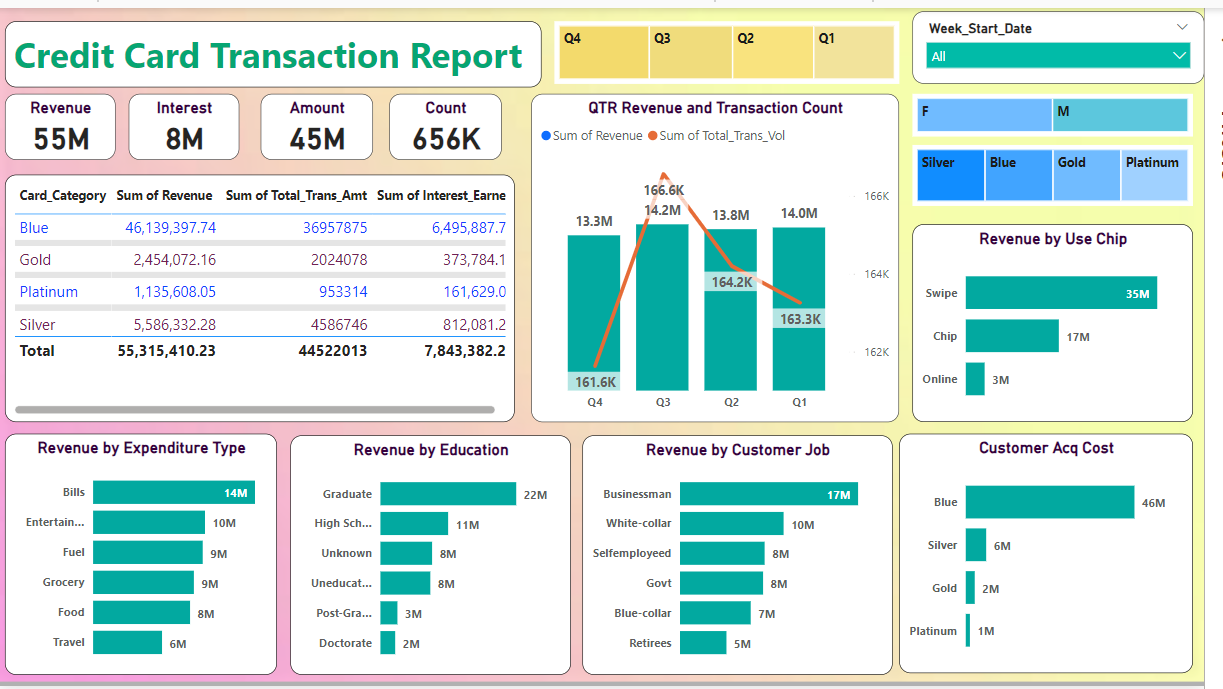

What the dashboard file says about the page in this screenshot:
{"tool":"powerbi","page":{"name":"cc-card transaction","canvas":[1280,720],"ordinal":0},"visuals":[{"type":"textbox","box":[5.3,14,570,70.2],"z":0},{"type":"lineStackedColumnComboChart","title":"QTR Revenue and  Transaction Count","fields":{"Y":["Sum(credit_card.Revenue)"],"Category":["credit_card.Qtr"],"Y2":["Sum(credit_card.Total_Trans_Vol)"]},"box":[564.7,91.2,391.1,349],"z":1000},{"type":"barChart","title":"Revenue by Expenditure Type","fields":{"Y":["Sum(credit_card.Revenue)"],"Category":["credit_card.Exp Type"]},"box":[5.3,452.5,289.4,256.1],"z":2000},{"type":"barChart","title":"Revenue by Education","fields":{"Y":["Sum(credit_card.Revenue)"],"Category":["customer.Education_Level"]},"box":[308.7,454.3,298.2,254.3],"z":3000},{"type":"barChart","title":"Revenue by Customer Job","fields":{"Y":["Sum(credit_card.Revenue)"],"Category":["customer.Customer_Job"]},"box":[619.1,454.3,329.7,254.3],"z":4000},{"type":"barChart","title":"Customer Acq Cost ","fields":{"Y":["Sum(credit_card.Revenue)"],"Category":["credit_card.Card_Category"]},"box":[955.9,452.5,312.2,254.3],"z":5000},{"type":"barChart","title":"Revenue by Use Chip","fields":{"Y":["Sum(credit_card.Revenue)"],"Category":["credit_card.Use Chip"]},"box":[969.9,229.8,298.2,210.5],"z":6000},{"type":"tableEx","fields":{"Values":["credit_card.Card_Category","Sum(credit_card.Revenue)","Sum(credit_card.Total_Trans_Amt)","Sum(credit_card.Interest_Earned)"]},"box":[5.3,177.1,541.9,263.1],"z":7000},{"type":"card","title":"Revenue","fields":{"Values":["Sum(credit_card.Revenue)"]},"box":[5.3,91.2,117.5,70.2],"z":8000},{"type":"card","title":"Amount","fields":{"Values":["Sum(credit_card.Total_Trans_Amt)"]},"box":[277.1,91.2,119.3,70.2],"z":9000},{"type":"card","title":"Count","fields":{"Values":["Sum(credit_card.Total_Trans_Vol)"]},"box":[413.9,91.2,119.3,70.2],"z":10000},{"type":"slicer","fields":{"Values":["credit_card.Week_Start_Date"]},"box":[969.9,3.5,310.4,77.2],"z":11000},{"type":"treemap","fields":{"Group":["credit_card.Qtr"],"Values":["Avg(credit_card.Client_Num)"]},"box":[589.3,14,366.6,66.6],"z":12000},{"type":"treemap","fields":{"Group":["customer.Gender"],"Values":["Avg(credit_card.Client_Num)"]},"box":[969.9,91.2,298.2,45.6],"z":13000},{"type":"treemap","fields":{"Group":["credit_card.Card_Category"],"Values":["Avg(credit_card.Client_Num)"]},"box":[969.9,145.6,298.2,64.9],"z":14000},{"type":"card","title":"Interest ","fields":{"Values":["Sum(credit_card.Interest_Earned)"]},"box":[136.8,91.2,117.5,70.2],"z":15000}]}

Visuals, with their boxes in screenshot pixels (x1, y1, x2, y2), scaled from the page's 1280x720 canvas onto the 1223x689 screenshot:
textbox: bbox=(5, 13, 550, 81)
"QTR Revenue and  Transaction Count" lineStackedColumnComboChart: bbox=(540, 87, 913, 421)
"Revenue by Expenditure Type" barChart: bbox=(5, 433, 282, 678)
"Revenue by Education" barChart: bbox=(295, 435, 580, 678)
"Revenue by Customer Job" barChart: bbox=(592, 435, 907, 678)
"Customer Acq Cost " barChart: bbox=(913, 433, 1212, 676)
"Revenue by Use Chip" barChart: bbox=(927, 220, 1212, 421)
tableEx - credit_card.Card_Category x Sum(credit_card.Revenue): bbox=(5, 169, 523, 421)
"Revenue" card: bbox=(5, 87, 117, 154)
"Amount" card: bbox=(265, 87, 379, 154)
"Count" card: bbox=(395, 87, 509, 154)
slicer - credit_card.Week_Start_Date: bbox=(927, 3, 1222, 77)
treemap - credit_card.Qtr x Avg(credit_card.Client_Num): bbox=(563, 13, 913, 77)
treemap - customer.Gender x Avg(credit_card.Client_Num): bbox=(927, 87, 1212, 131)
treemap - credit_card.Card_Category x Avg(credit_card.Client_Num): bbox=(927, 139, 1212, 201)
"Interest " card: bbox=(131, 87, 243, 154)
